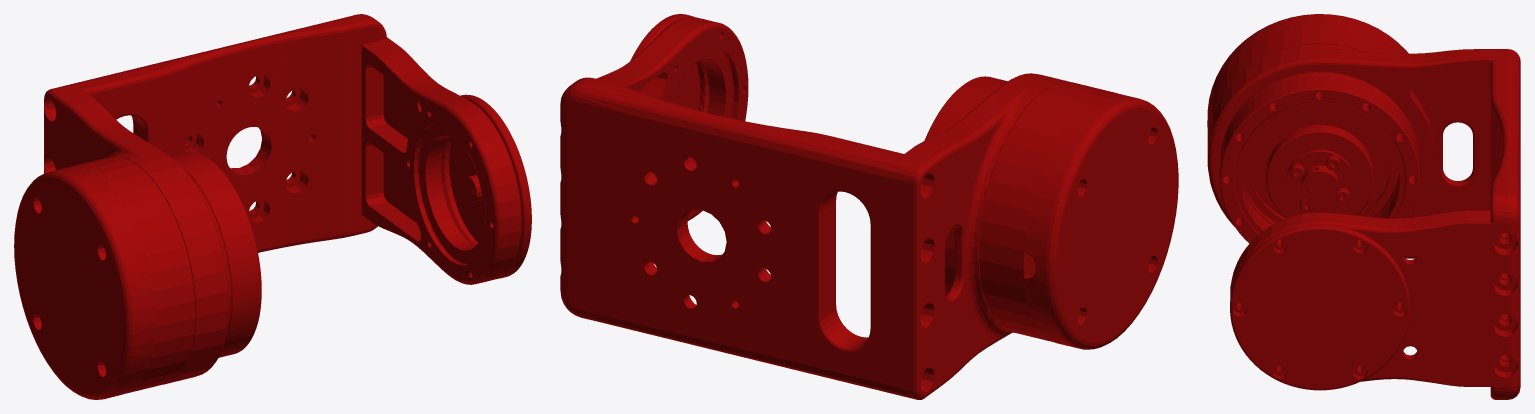
File: AnkleRoll_L_Link.obj
3 views of the same model, side by side, from view 1: azimuth 30°, elevation 25°; view 2: azimuth 150°, elevation 25°; view 3: azimuth 270°, elevation 25° (orthographic). The views are drawn at different scales.
Parts seen in each view (by area): view 1: AnkleRoll_L_Link; view 2: AnkleRoll_L_Link; view 3: AnkleRoll_L_Link.
Boxes of the visible parts, left/top/right/bottom form: AnkleRoll_L_Link: left=14, top=14, right=531, bottom=399; AnkleRoll_L_Link: left=560, top=14, right=1178, bottom=399; AnkleRoll_L_Link: left=1207, top=14, right=1520, bottom=399.
Bounding box in the file's own units: 0.185 × 0.09 × 0.125.
